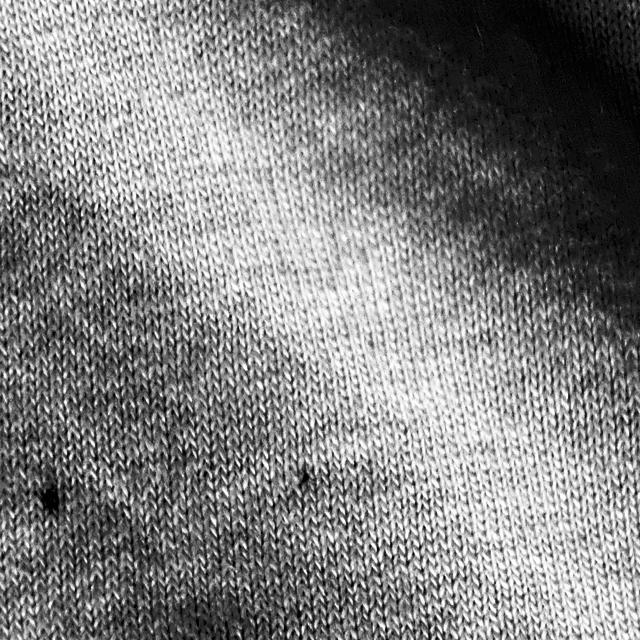Color_defect: (287, 459, 326, 494), (35, 472, 64, 516)
